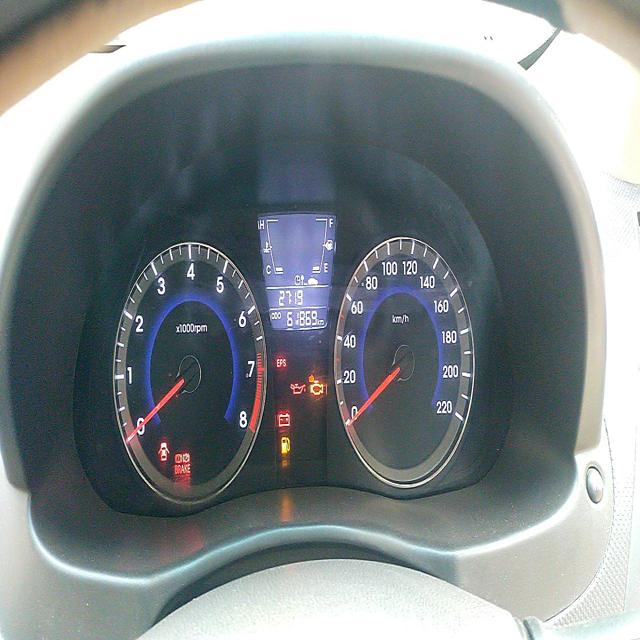odometer: (285, 309, 317, 328)
